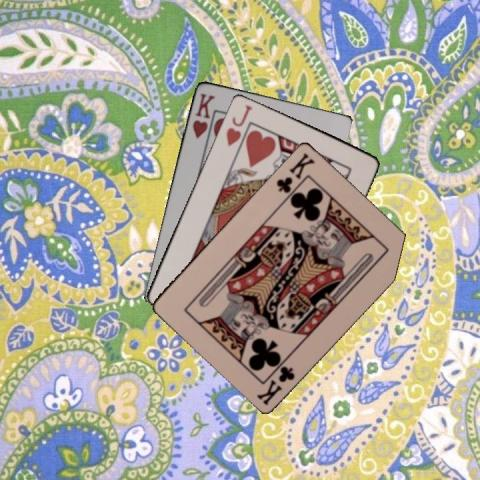Jh: (223, 101, 254, 147)
Kc: (253, 362, 297, 407), (273, 149, 316, 195)
Kh: (189, 90, 216, 140)
